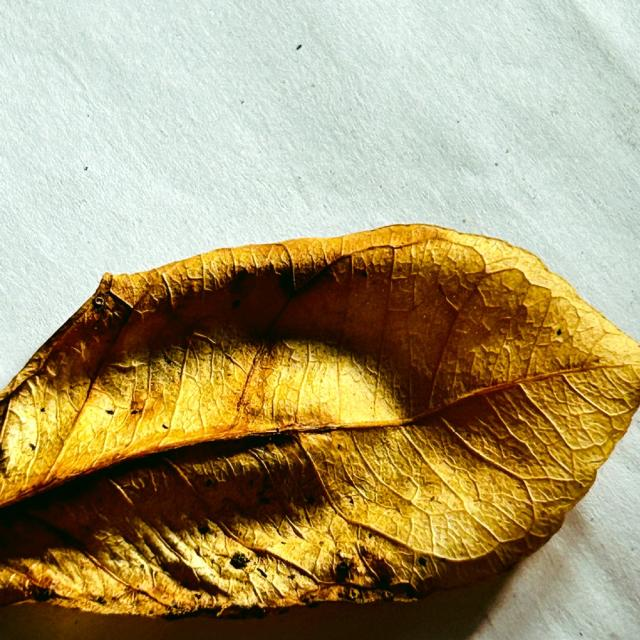DryLeaf_Lemon: (0, 225, 639, 615)
